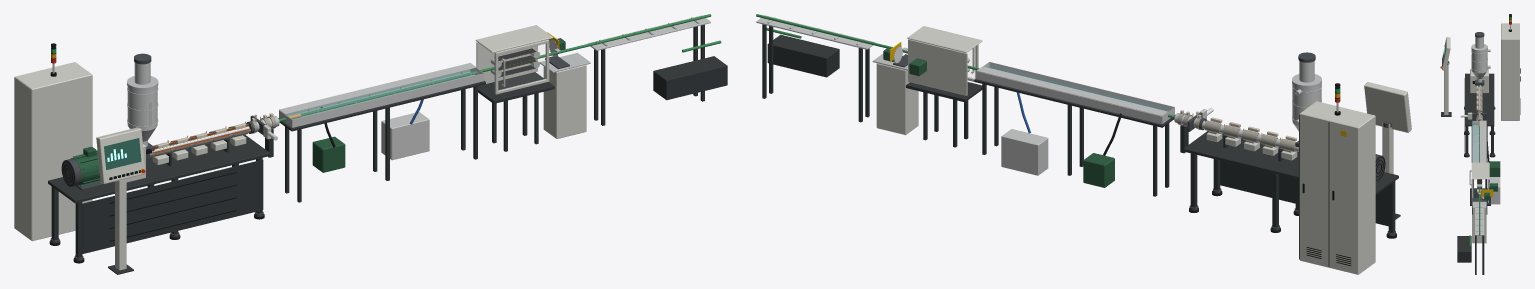
File: extrusion-motion.glb
The picture shows the model from 3 angles, left to right: view 1: azimuth 30°, elevation 25°; view 2: azimuth 150°, elevation 25°; view 3: azimuth 270°, elevation 25°; orthographic projection. The views are drawn at different scales.
Visible parts, largest first — view 1: Extruder, Control cabinet, CalibrationBath, HaulOffFrame, RunOutTable, SawBase, Operator panel head, Extruder hopper, Operator panel stand, Profile, AdapterAndDie; view 2: Control cabinet, CalibrationBath, Extruder, HaulOffFrame, RunOutTable, SawBase, Operator panel head, Extruder hopper, AdapterAndDie, Operator panel stand; view 3: Control cabinet, Extruder, CalibrationBath, RunOutTable, Extruder hopper, HaulOffFrame, SawBase, Operator panel stand, Operator panel head, SawCarriage_body, AdapterAndDie.
Boxes of the visible parts, x1,y1,x2,y2 form: Extruder: [48, 121, 270, 263]; Control cabinet: [14, 62, 92, 241]; CalibrationBath: [278, 63, 485, 202]; HaulOffFrame: [475, 25, 554, 151]; RunOutTable: [588, 15, 727, 125]; SawBase: [540, 53, 590, 138]; Operator panel head: [96, 127, 145, 183]; Extruder hopper: [127, 53, 158, 153]; Operator panel stand: [108, 178, 133, 274]; Profile: [279, 49, 565, 121]; AdapterAndDie: [250, 113, 279, 157]; Control cabinet: [1299, 101, 1375, 274]; CalibrationBath: [974, 62, 1175, 196]; Extruder: [1183, 117, 1398, 238]; HaulOffFrame: [906, 26, 982, 147]; RunOutTable: [756, 15, 875, 122]; SawBase: [872, 53, 918, 135]; Operator panel head: [1364, 82, 1411, 132]; Extruder hopper: [1292, 52, 1321, 147]; AdapterAndDie: [1174, 107, 1213, 153]; Operator panel stand: [1382, 121, 1400, 219]; Control cabinet: [1501, 23, 1520, 120]; Extruder: [1464, 69, 1495, 157]; CalibrationBath: [1471, 120, 1500, 214]; RunOutTable: [1457, 204, 1484, 274]; Extruder hopper: [1471, 32, 1490, 85]; HaulOffFrame: [1469, 162, 1497, 205]; SawBase: [1472, 201, 1486, 243]; Operator panel stand: [1441, 61, 1451, 116]; Operator panel head: [1440, 37, 1450, 70]; SawCarriage_body: [1472, 189, 1493, 201]; AdapterAndDie: [1460, 109, 1486, 120].
Size of the model in its own units: 8.62 by 2.29 by 1.69.
